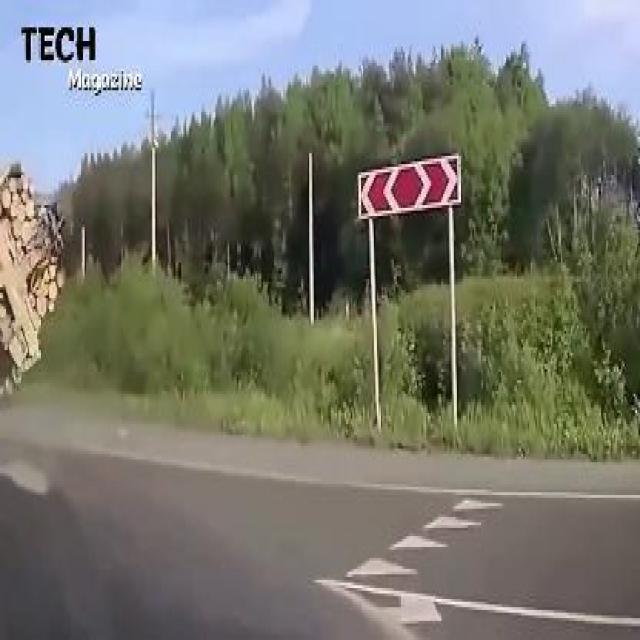accident: (2, 145, 66, 407)
